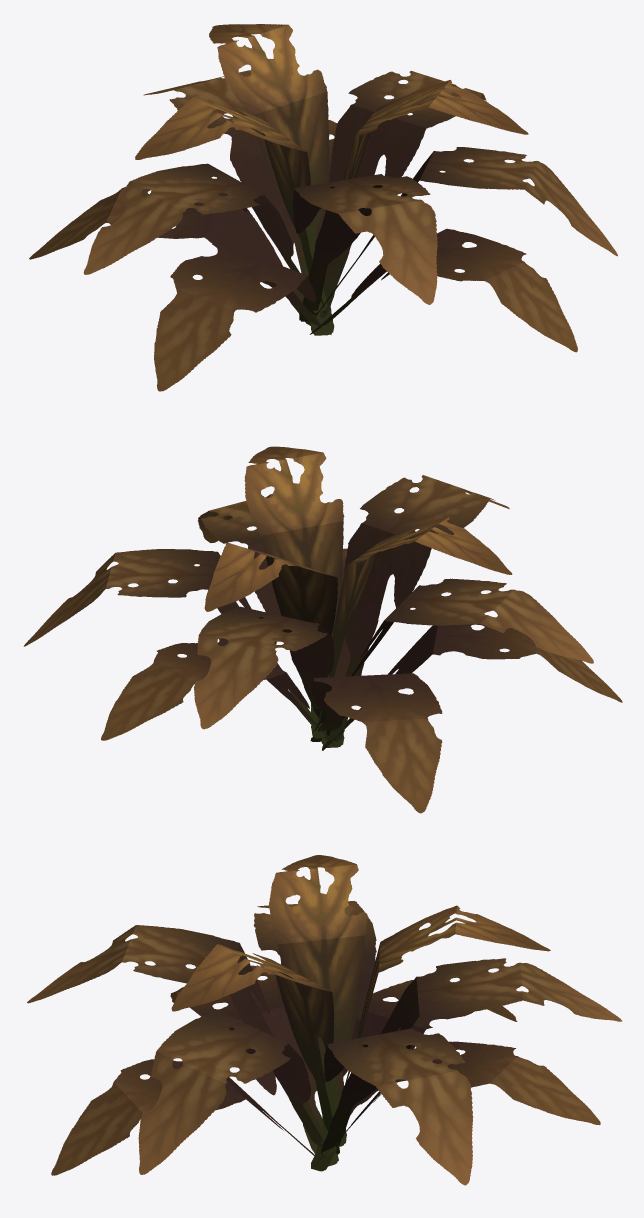
The model's file is broadleaf_dead_04.fbx.
3 renders of one model, top to bottom at view 1: azimuth 30°, elevation 25°; view 2: azimuth 150°, elevation 25°; view 3: azimuth 270°, elevation 25°, orthographic. The views are drawn at different scales.
Visible parts, largest first — view 1: obj0.264; view 2: obj0.264; view 3: obj0.264.
Part boxes in pixels (left/top/right/bottom): obj0.264: left=29, top=24, right=617, bottom=391; obj0.264: left=23, top=446, right=622, bottom=813; obj0.264: left=27, top=855, right=622, bottom=1185.
Bounding box in the file's own units: 2.33 × 1.07 × 2.33.
